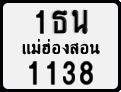letters: (71, 9, 90, 35), (51, 9, 68, 34), (79, 59, 94, 86), (61, 59, 76, 85), (35, 9, 47, 35), (28, 59, 39, 86), (46, 59, 56, 86)
province: (21, 38, 101, 56)
